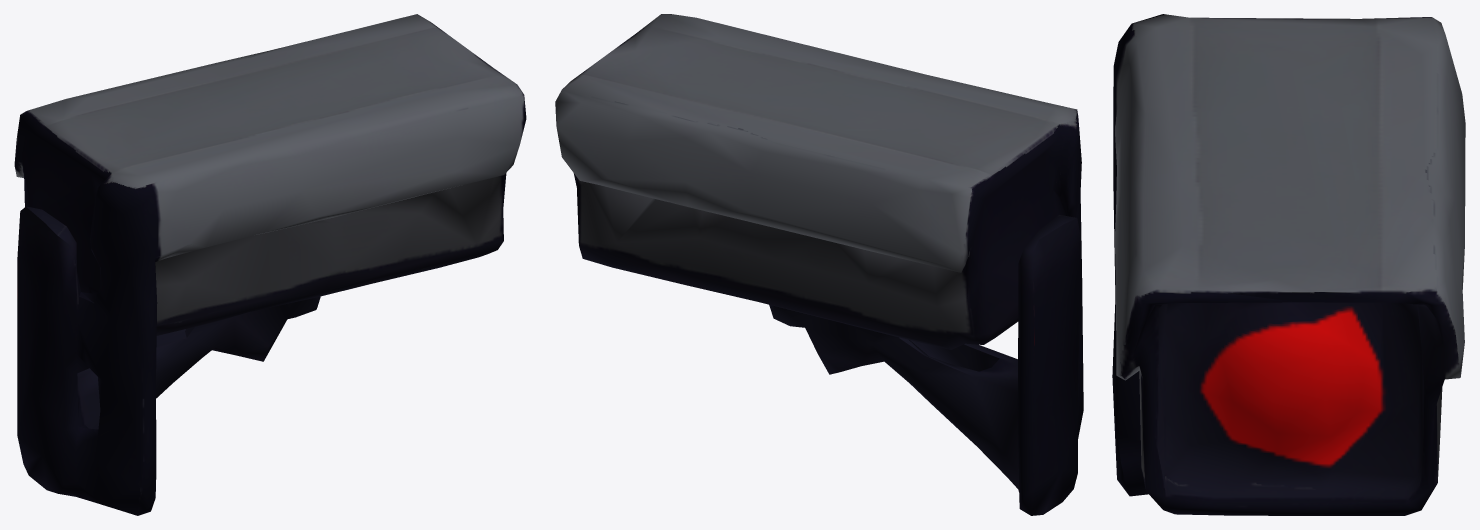
The model's file is camera-active.glb.
The picture shows the model from 3 angles, left to right: view 1: azimuth 30°, elevation 25°; view 2: azimuth 150°, elevation 25°; view 3: azimuth 270°, elevation 25°; orthographic projection. The views are drawn at different scales.
Parts seen in each view (by area): view 1: geometry_0.001; view 2: geometry_0.001; view 3: geometry_0.001.
Part boxes in pixels (x1=…): geometry_0.001: x1=14, y1=14, x2=526, y2=515; geometry_0.001: x1=555, y1=14, x2=1083, y2=515; geometry_0.001: x1=1112, y1=14, x2=1465, y2=515.
Size of the model in its own units: 0.9981 by 0.7398 by 0.495.
Materials: 1 (1 with a texture image).
